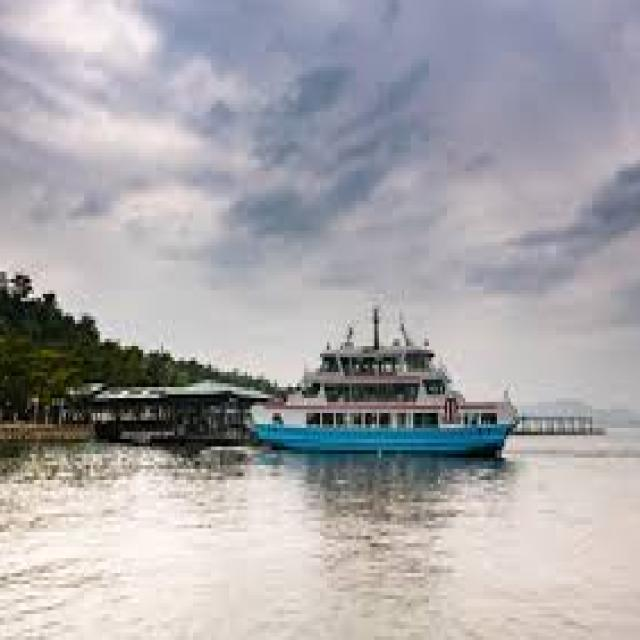passenger ship: (250, 311, 524, 465)
